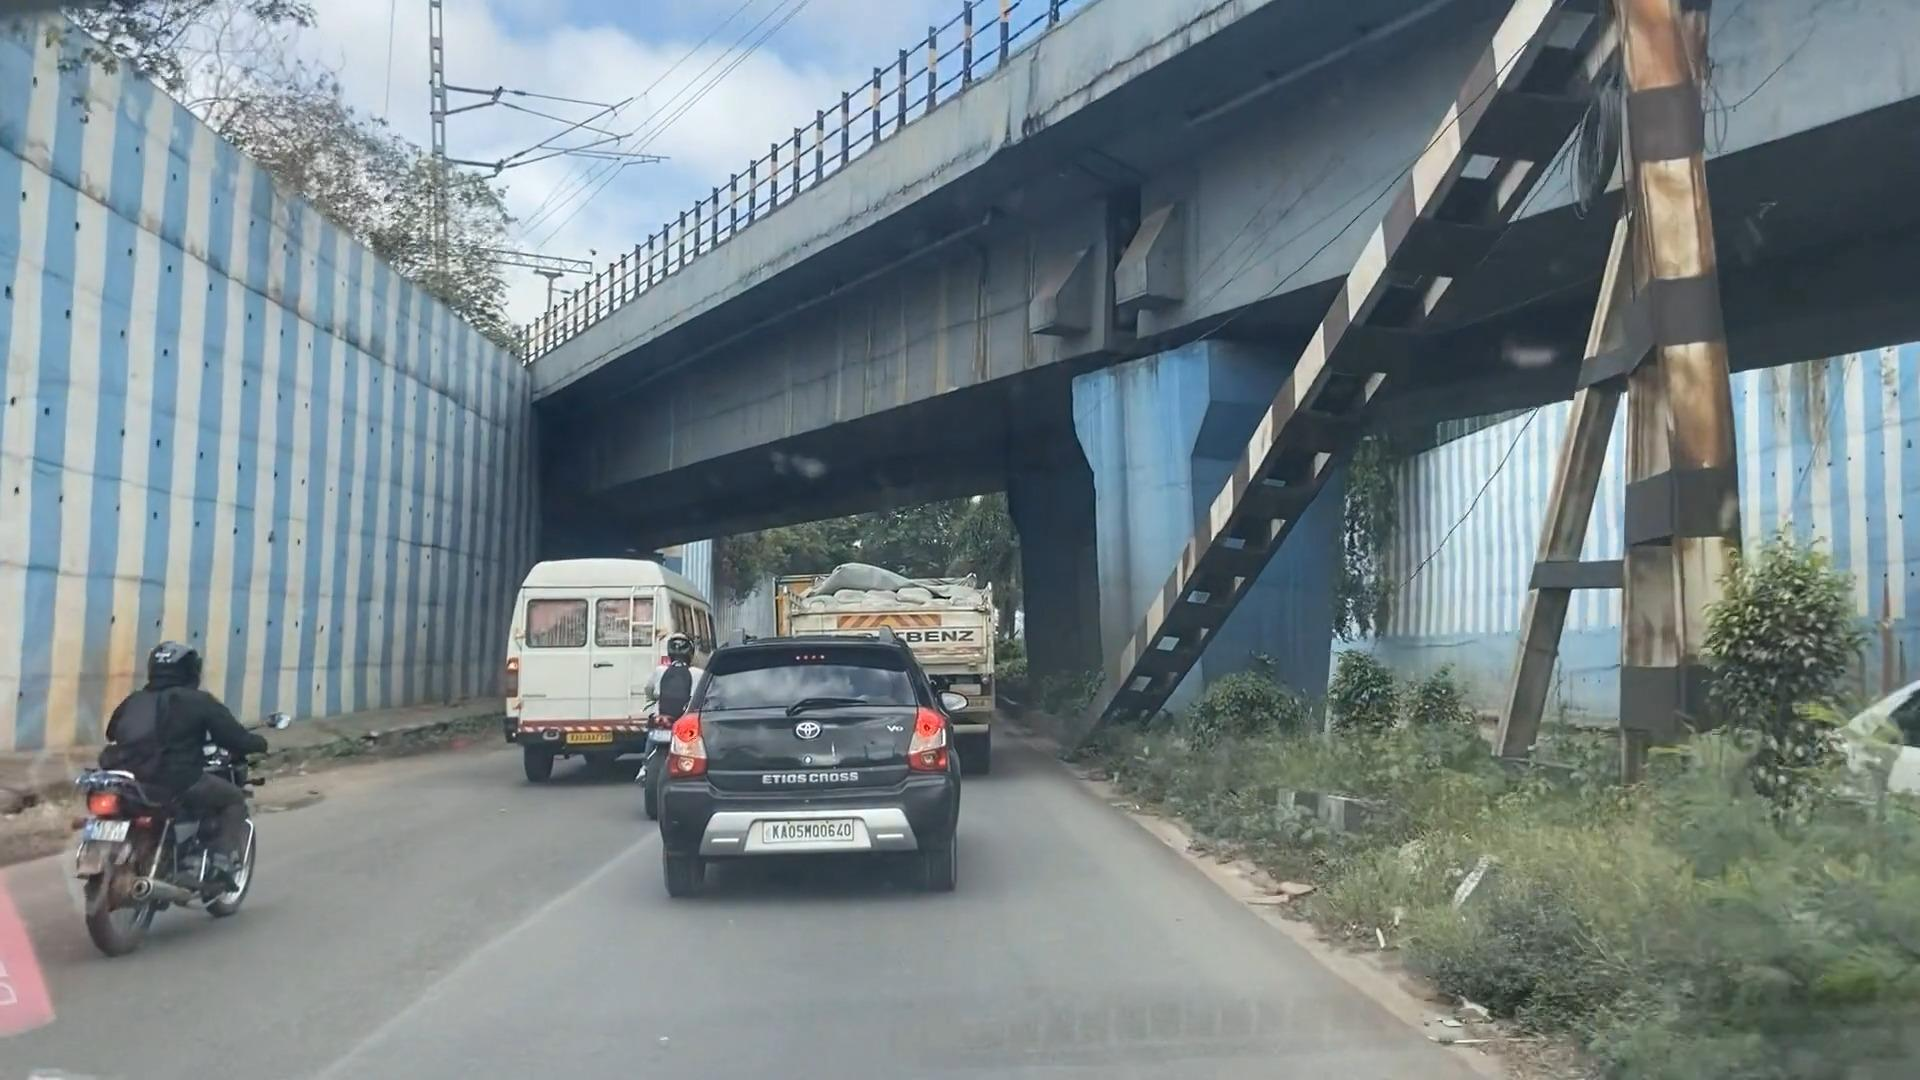HMV: (506, 556, 695, 795)
LMV: (655, 624, 965, 894), (67, 642, 310, 957), (630, 626, 707, 823)
